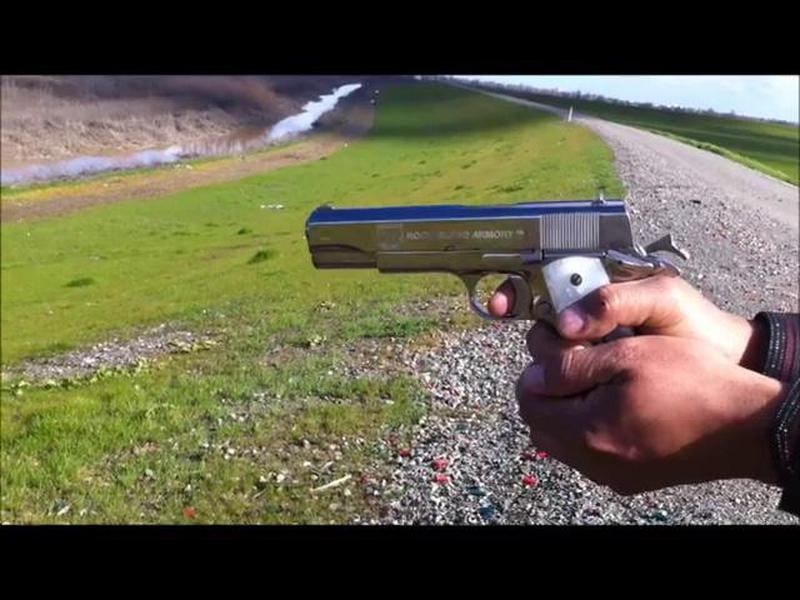Pistola: (281, 170, 704, 354)
